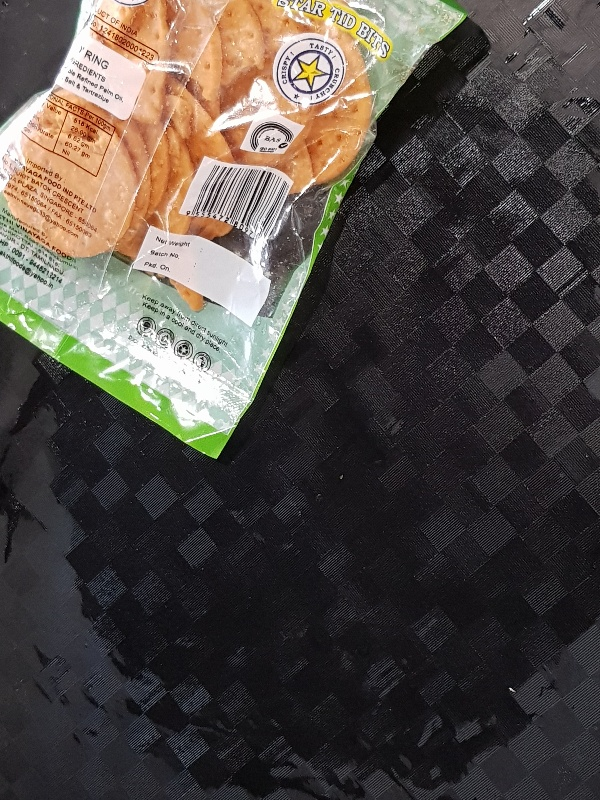Star Tidbits 'O' Ring: (1, 1, 465, 463)
